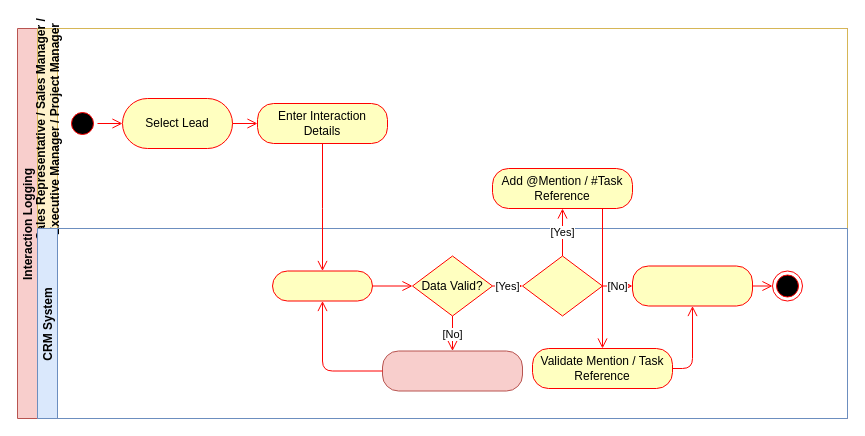
This 865x436 diagram has some shape labels left out. The centre of each missing label's shape, as x and y in pixels:
"Add Mention or Task Reference?" goes at point 562,285.
"Save Interaction & Update History" goes at point 692,285.
"Show Error & Request Fix" goes at point 452,370.
"Validate Required Details" goes at point 322,285.
